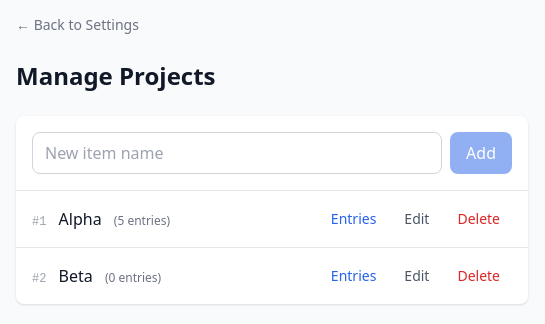
Scenario: SettingsResourceManager › shows edit form when edit button is clicked
Expected: the text "Alpha" is shown, [59, 208, 102, 230]
Click the button "Edit" in the row of "#1".
click(417, 219)  # box [392, 203, 442, 235]
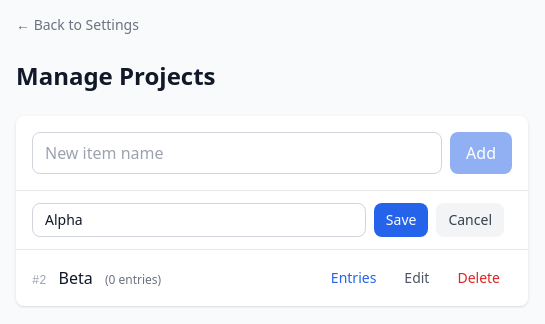
Now the button "Save" is shown, box [374, 203, 428, 237]
Now the button "Cancel" is shown, box [436, 203, 504, 237]
